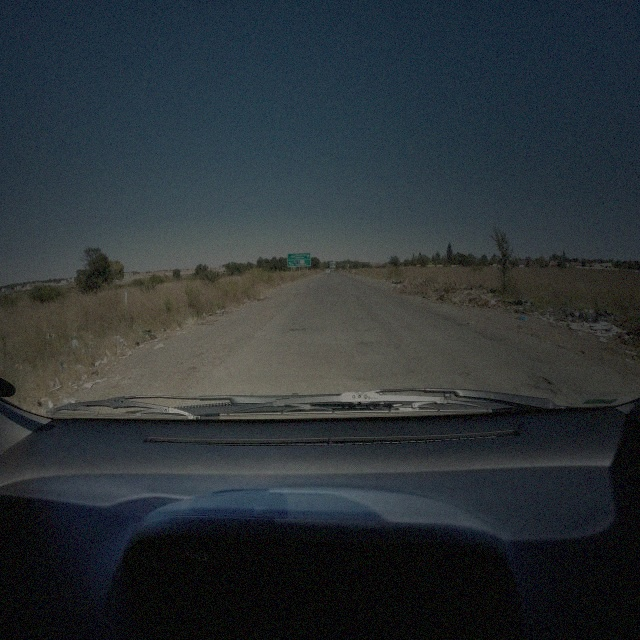pothole: (537, 387, 559, 398), (531, 376, 554, 386)
